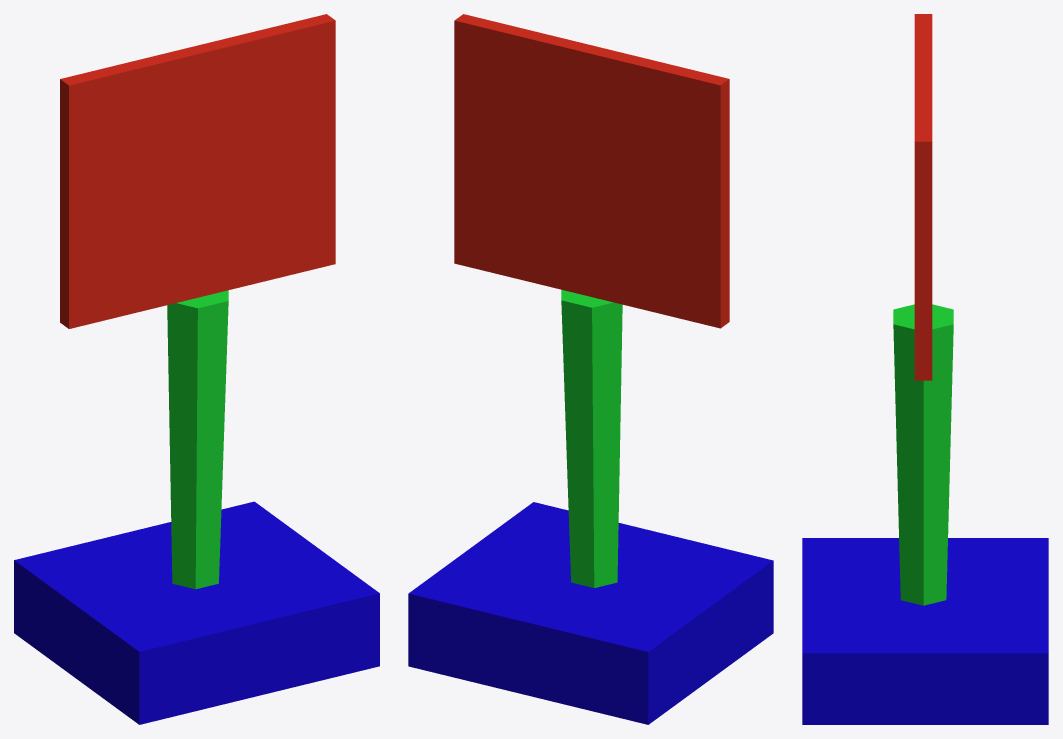
Rendered from concrete stand1.fbx.
3 views of the same model, side by side, from view 1: azimuth 30°, elevation 25°; view 2: azimuth 150°, elevation 25°; view 3: azimuth 270°, elevation 25° (orthographic).
Visible parts, largest first — view 1: Group#200-Entity880886; view 2: Group#200-Entity880886; view 3: Group#200-Entity880886.
Part boxes in pixels (<box>): Group#200-Entity880886: <box>14,14,379,724</box>; Group#200-Entity880886: <box>408,14,773,724</box>; Group#200-Entity880886: <box>802,14,1048,724</box>.
Bounding box in the file's own units: 34.39 × 74.01 × 28.
